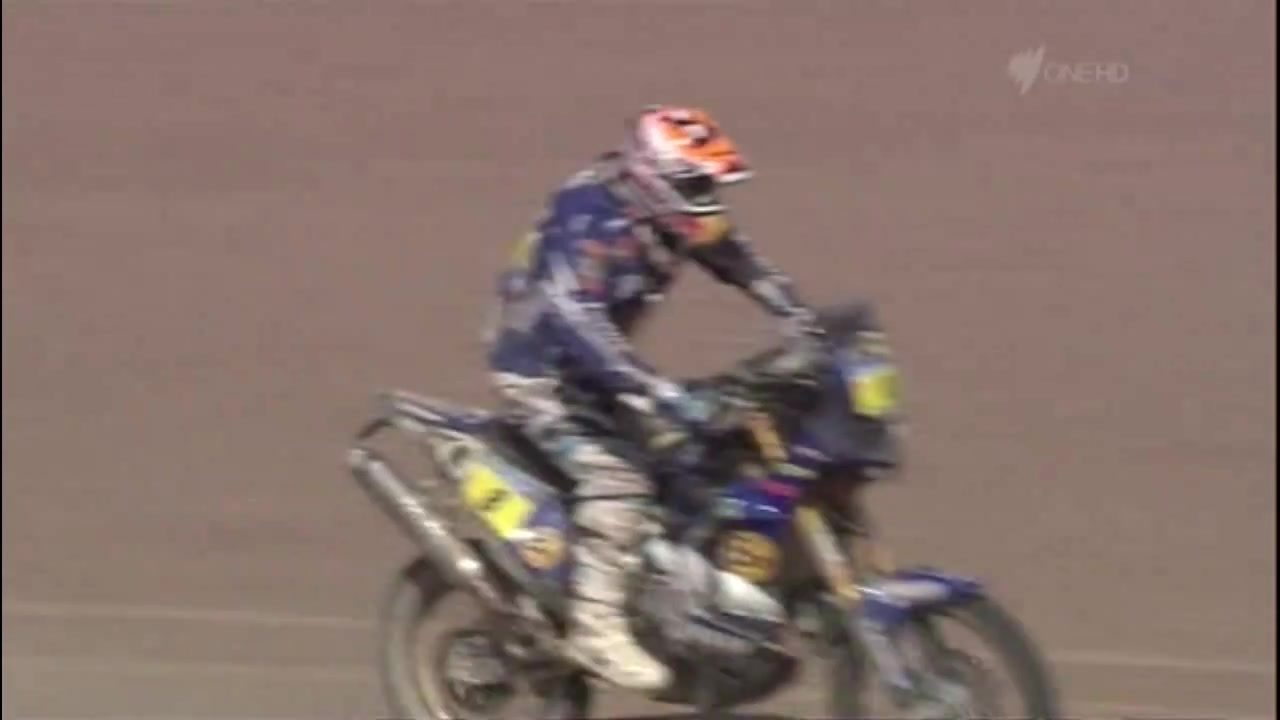motorbike: (346, 303, 1061, 720)
